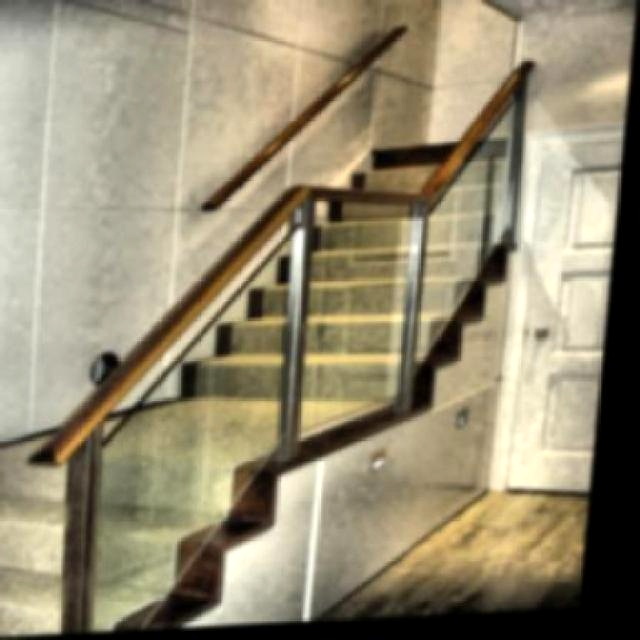stair: (0, 120, 514, 637)
